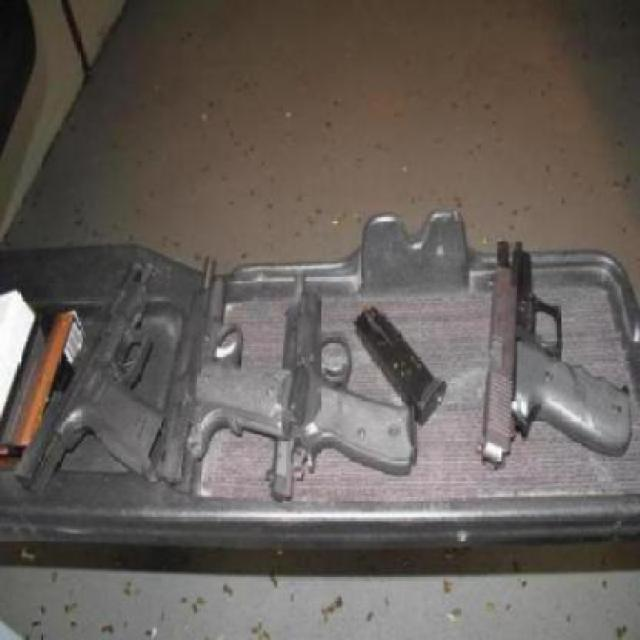gun: (12, 243, 170, 499), (477, 230, 631, 484), (265, 262, 417, 510), (154, 250, 291, 484)
